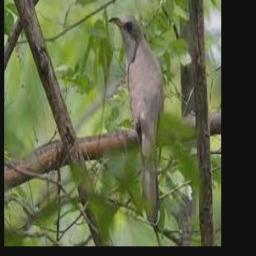Cuckoo: (109, 17, 164, 225)
